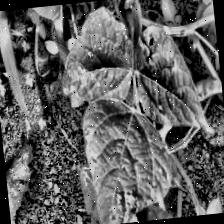ALS: (78, 89, 179, 224), (130, 20, 214, 140), (48, 7, 141, 104)
